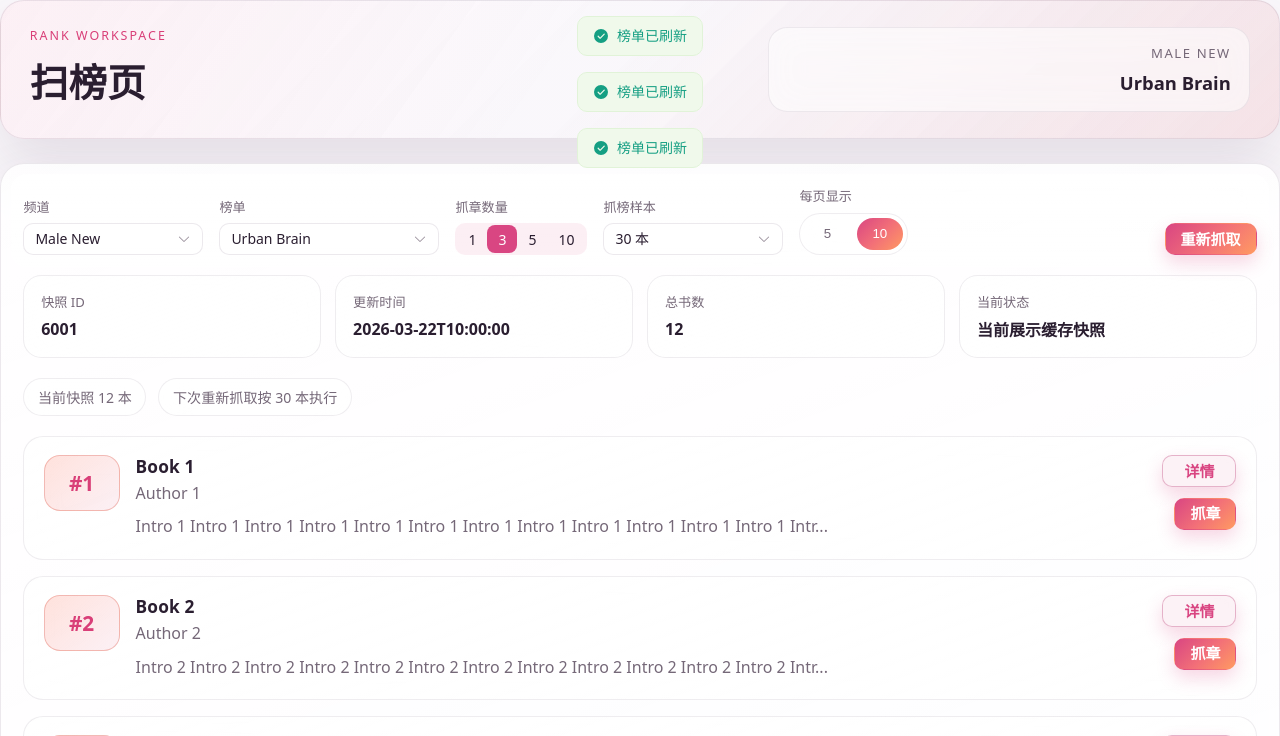
Scenario: RankView › recovers a timed-out rank refresh by polling the latest snapshot
Click the button with test id "rank-force-refresh" at (1211, 239), box [1165,223,1257,255]
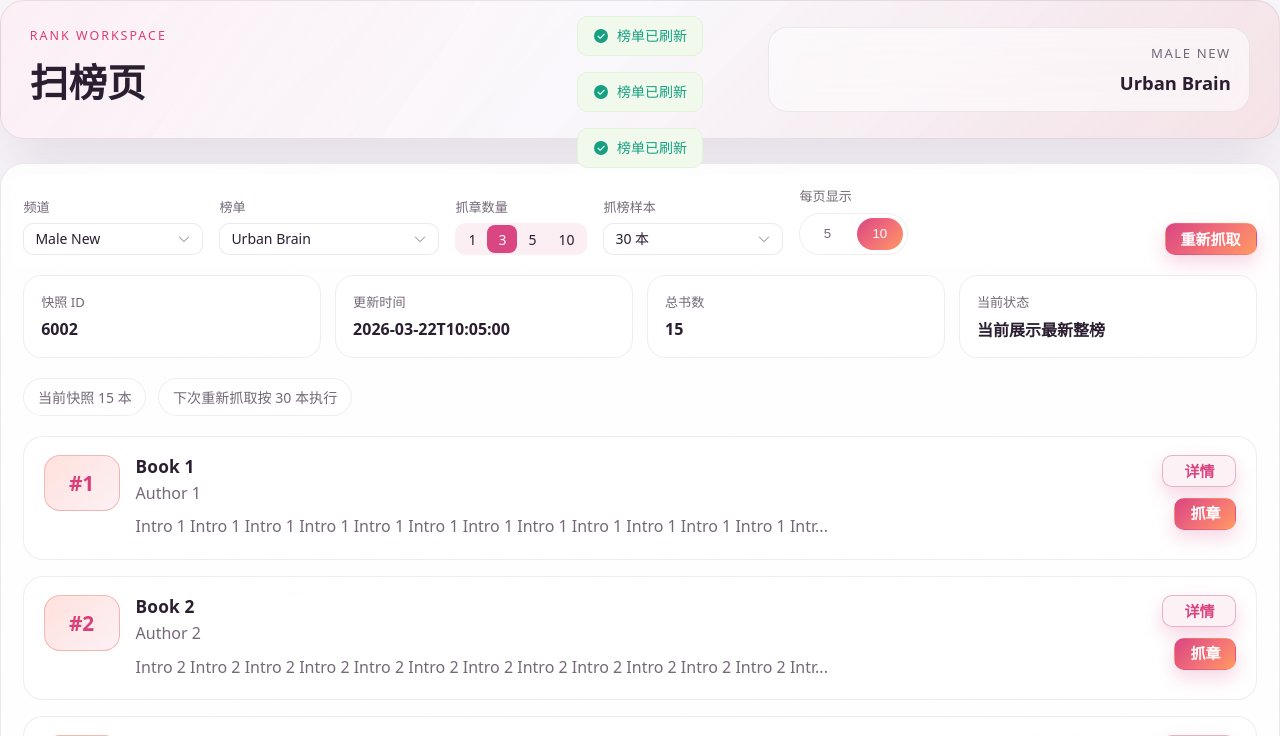
Expected: the text "6002" is shown, [41,318,78,340]
Expected: the text with test id "rank-current-total" shows "15", [38,388,132,407]
